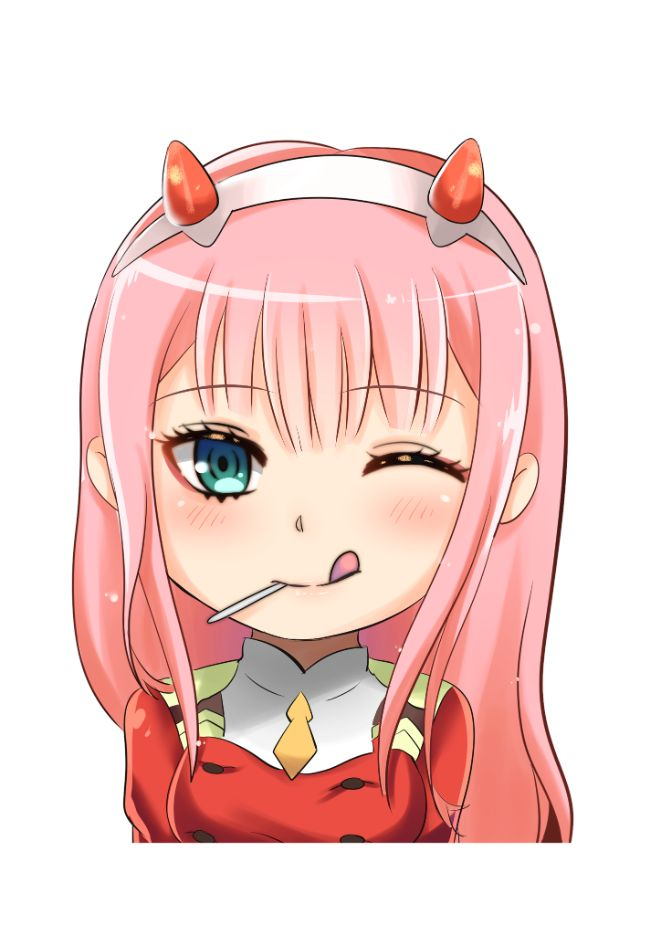zeroTwo: (76, 131, 559, 637)
